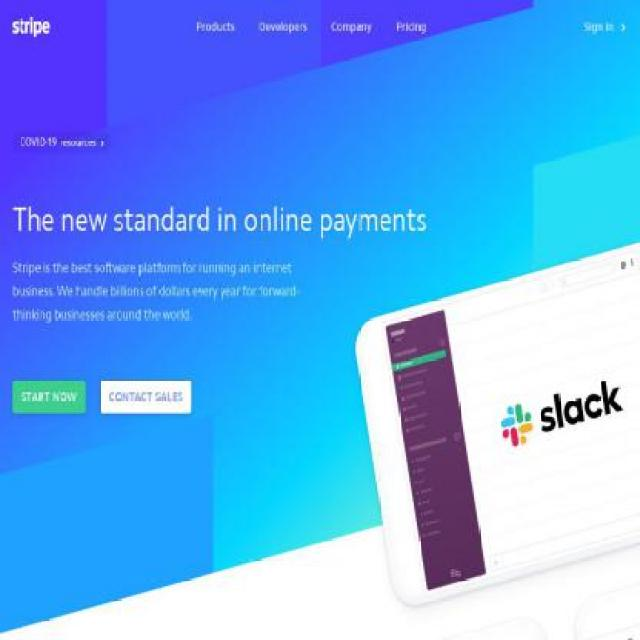button: (100, 380, 192, 414), (246, 8, 320, 46), (572, 8, 639, 46), (12, 380, 86, 414), (318, 8, 384, 46), (183, 8, 248, 46), (12, 132, 111, 154), (12, 16, 51, 38)
